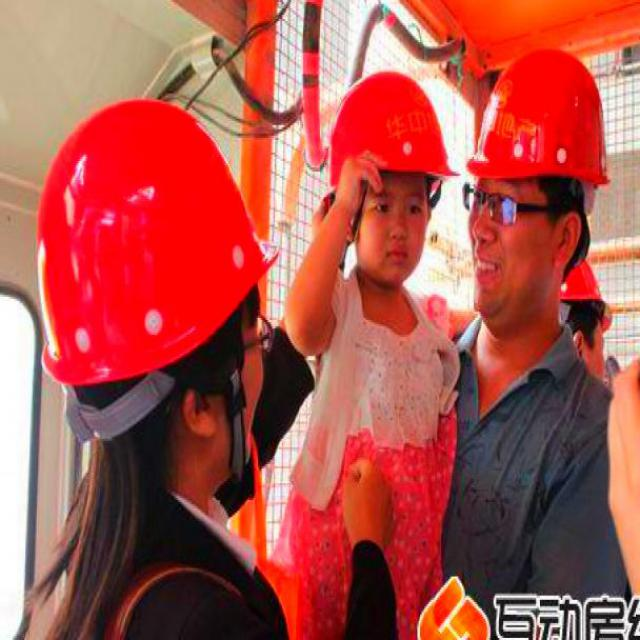helmet: (13, 94, 279, 498), (439, 19, 622, 358), (314, 72, 447, 284)
